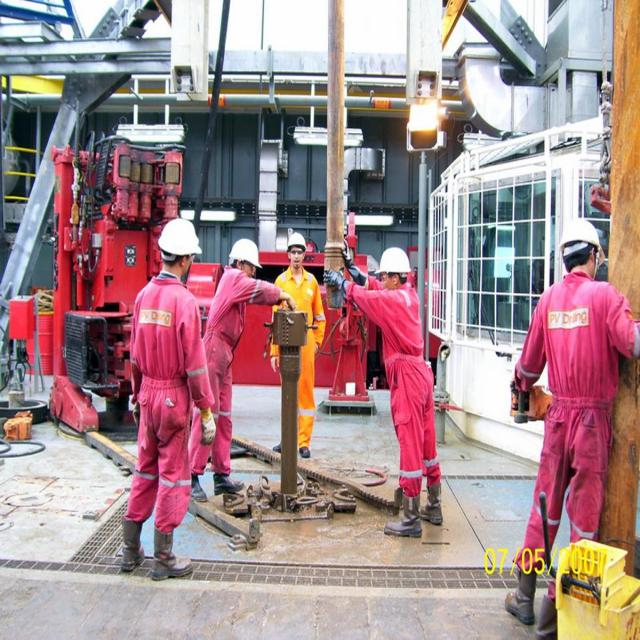glove: (340, 238, 368, 292), (196, 399, 218, 445), (324, 268, 354, 298)
goggles: (234, 259, 260, 275), (380, 273, 400, 284), (289, 248, 306, 258)
helmet: (558, 217, 606, 282), (158, 219, 202, 277), (377, 247, 413, 300), (228, 237, 265, 287), (288, 231, 305, 270)
no_glove: (278, 288, 298, 317), (268, 350, 284, 376)
shoes: (147, 522, 197, 586), (111, 510, 148, 580), (385, 482, 424, 538), (504, 565, 539, 624), (210, 461, 247, 499), (419, 473, 445, 527), (534, 592, 558, 640), (186, 469, 209, 507), (298, 436, 314, 462), (271, 433, 287, 456)
